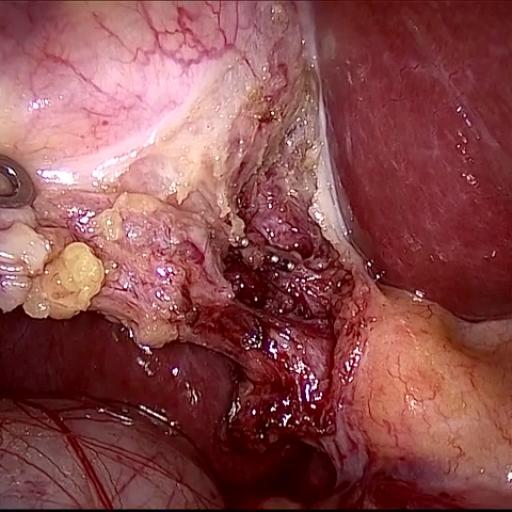Grasper: (0, 120, 55, 252)
